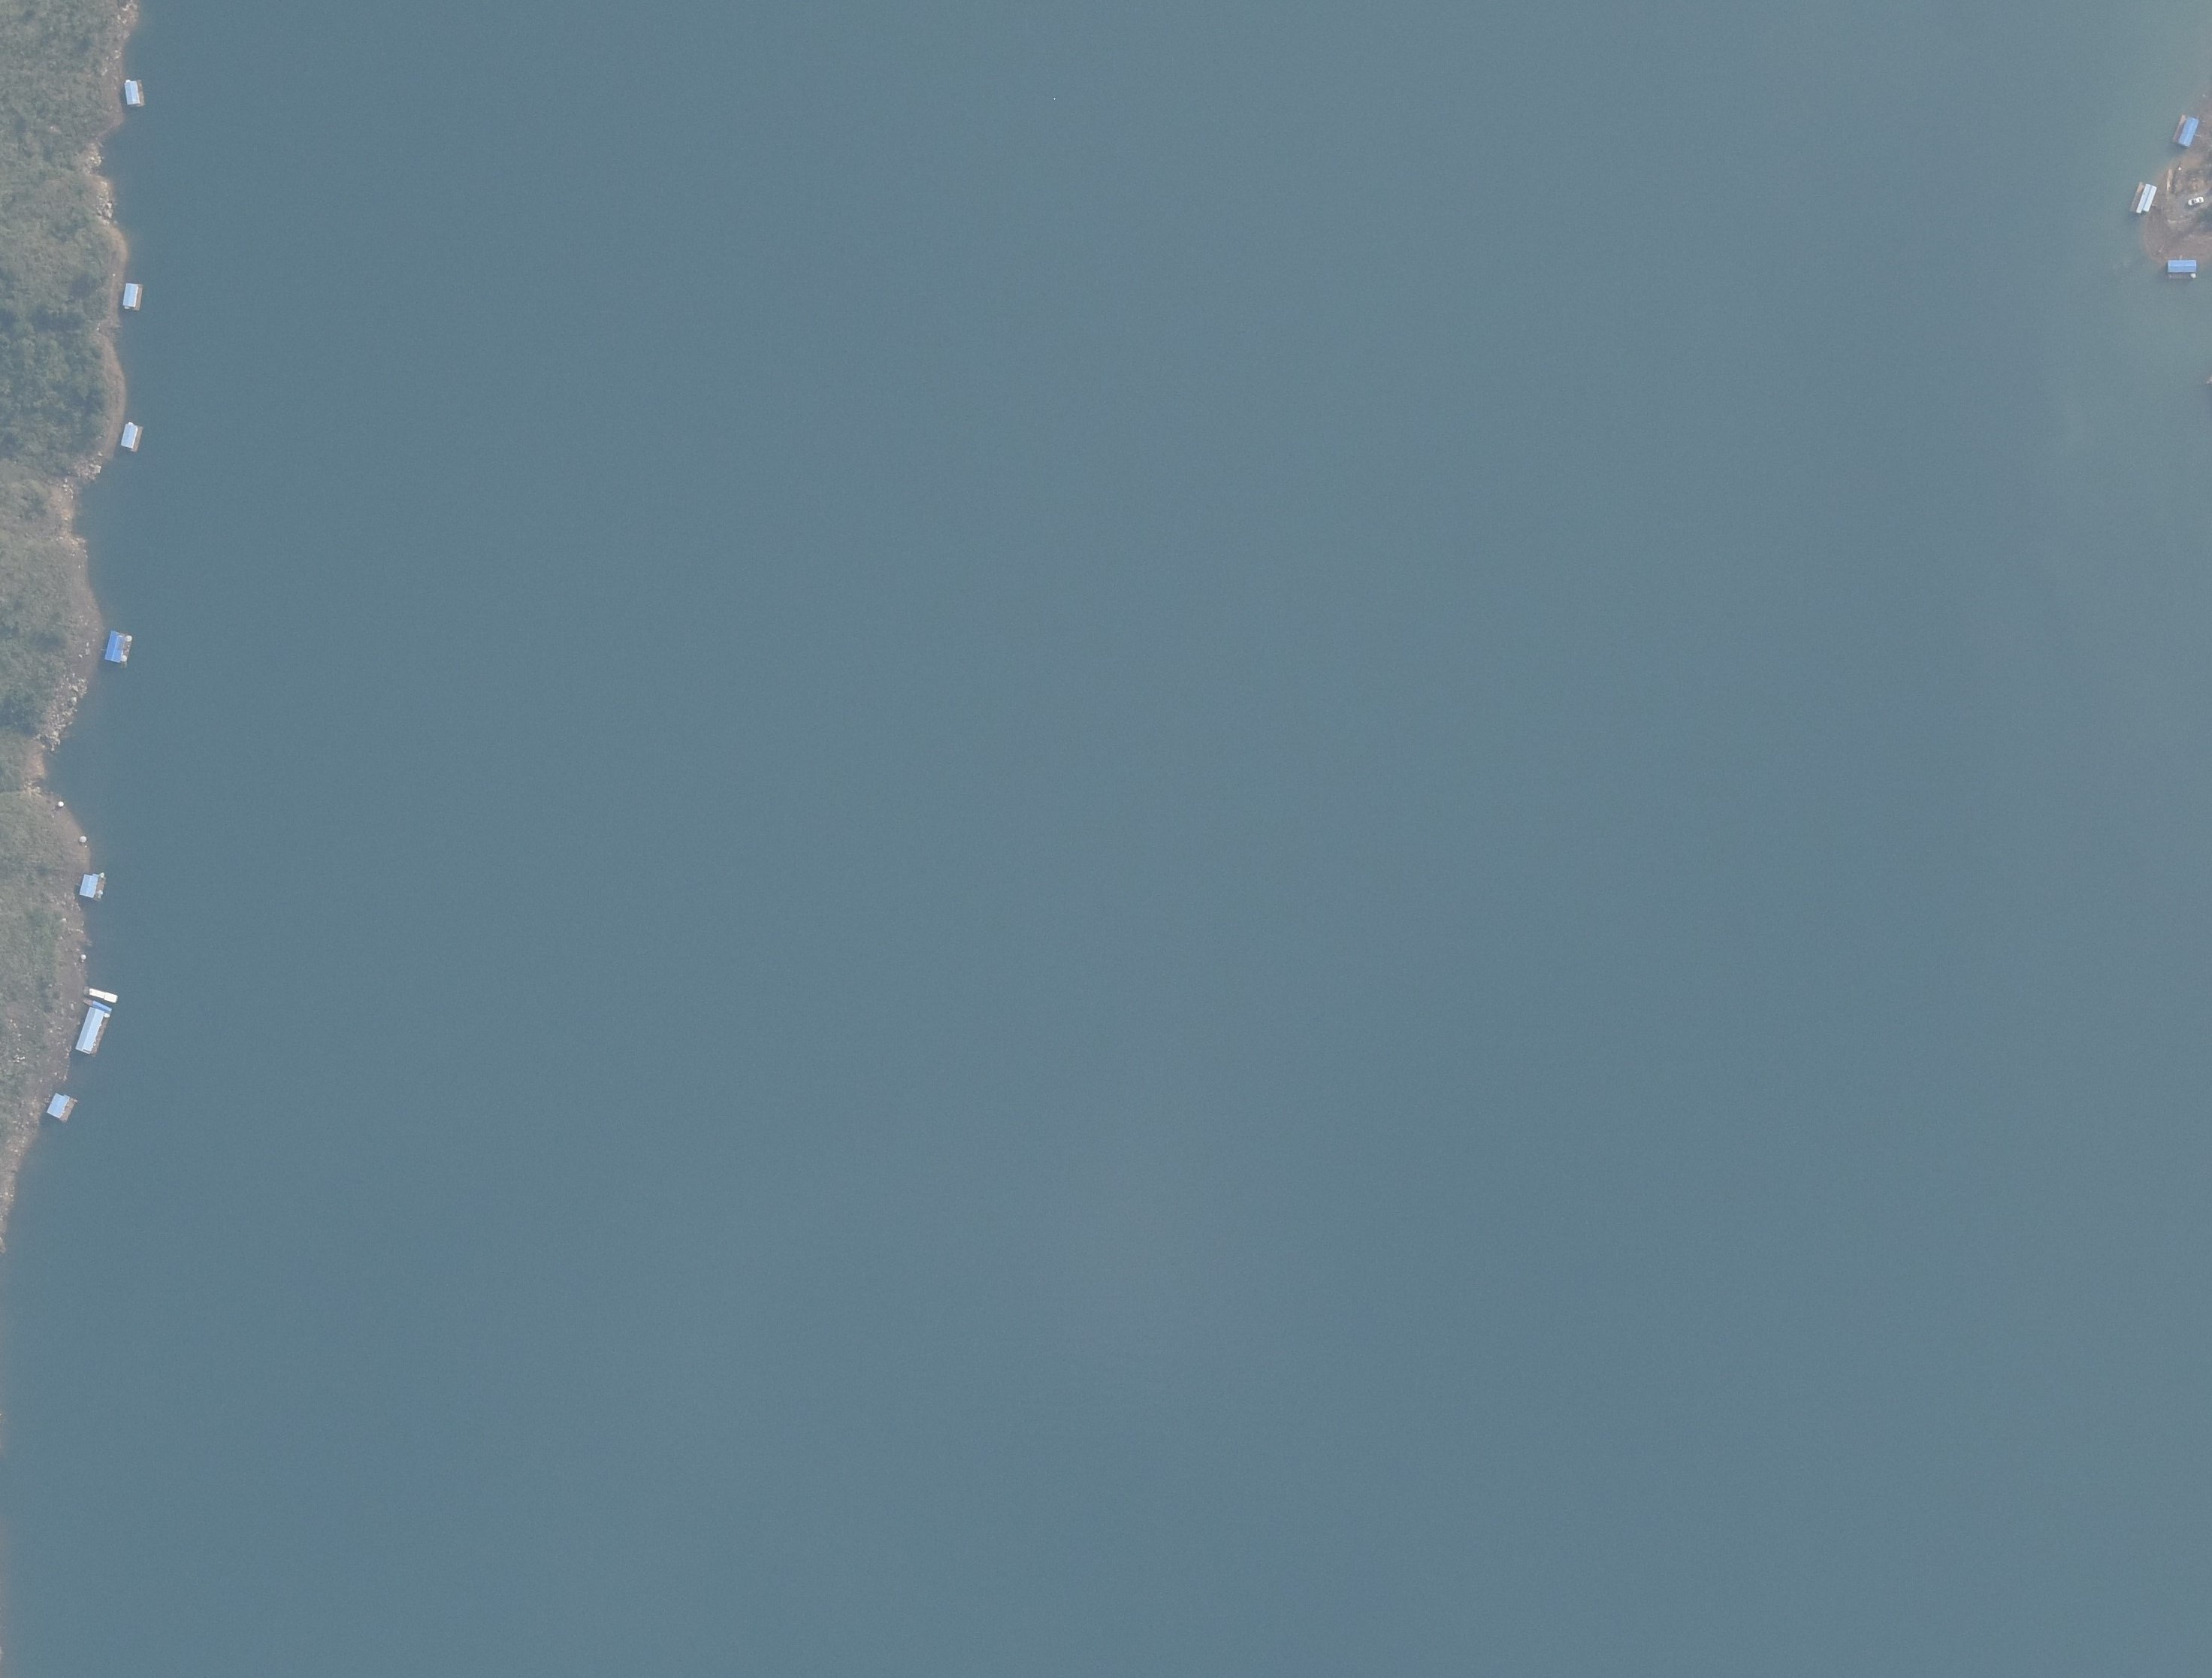prefabricated-house: (76, 1007, 104, 1057), (2177, 114, 2207, 150), (100, 628, 127, 667), (2132, 181, 2159, 216), (117, 74, 144, 107), (47, 1089, 74, 1120), (2165, 255, 2201, 278), (79, 872, 103, 902), (120, 421, 142, 450), (119, 282, 144, 308)
ship: (82, 983, 121, 1008)
vehicle: (2184, 195, 2205, 207)
